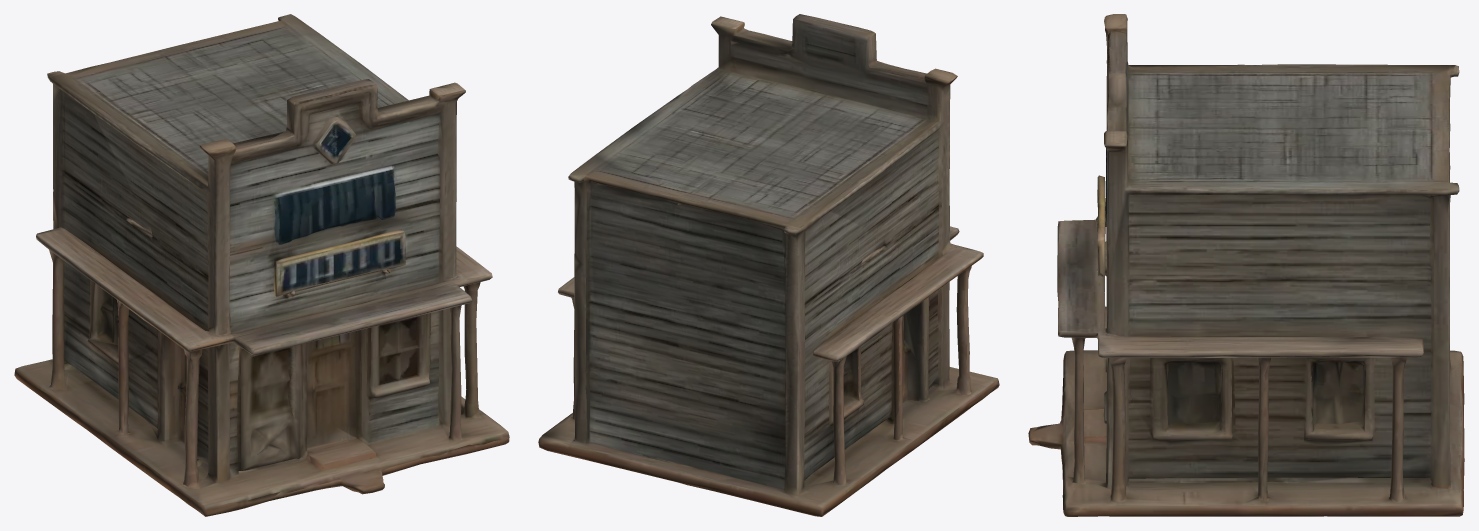
Rendered from ghost_town.glb.
3 views of the same model, side by side, from view 1: azimuth 30°, elevation 25°; view 2: azimuth 150°, elevation 25°; view 3: azimuth 270°, elevation 25° (orthographic). The views are drawn at different scales.
Size of the model in its own units: 0.8487 by 0.9851 by 1.
Materials: 1 (1 with a texture image).
